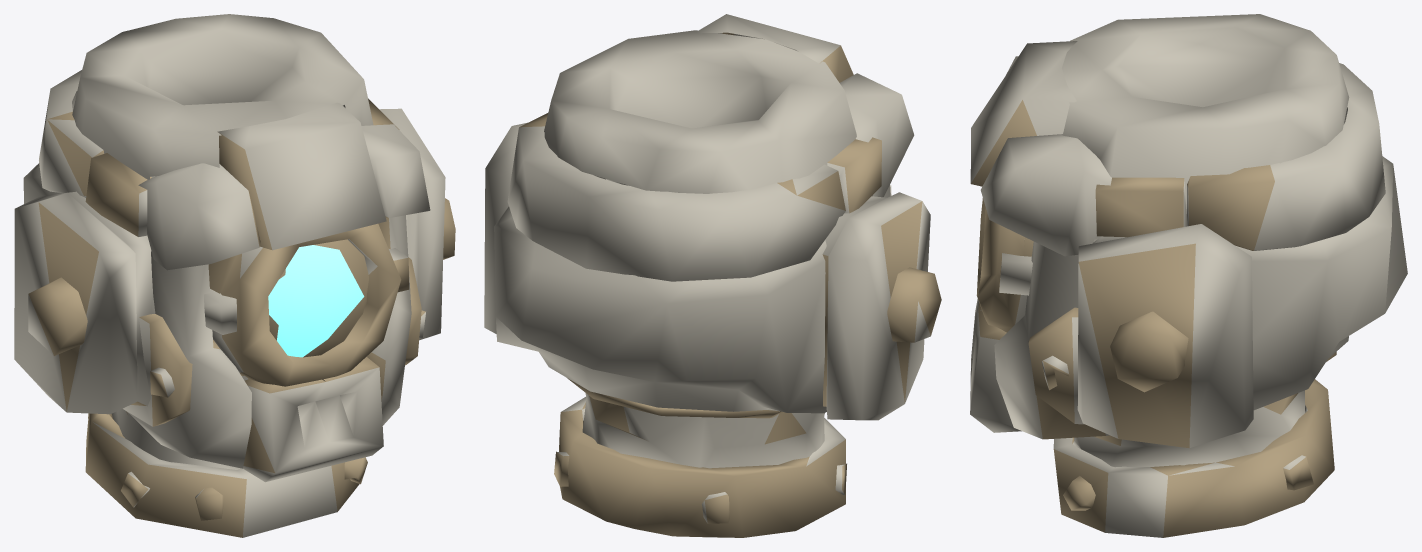
The model's file is GolemHeadEye.glb.
3 renders of one model, left to right at view 1: azimuth 30°, elevation 25°; view 2: azimuth 150°, elevation 25°; view 3: azimuth 270°, elevation 25°, orthographic. The views are drawn at different scales.
Parts seen in each view (by area): view 1: PART_GolemHeadEye.005; view 2: PART_GolemHeadEye.005; view 3: PART_GolemHeadEye.005.
Part boxes in pixels (bbox=[...]): PART_GolemHeadEye.005: bbox=[14, 14, 455, 537]; PART_GolemHeadEye.005: bbox=[484, 14, 941, 537]; PART_GolemHeadEye.005: bbox=[970, 14, 1407, 537].
Size of the model in its own units: 1.14 by 1.1 by 1.02.
